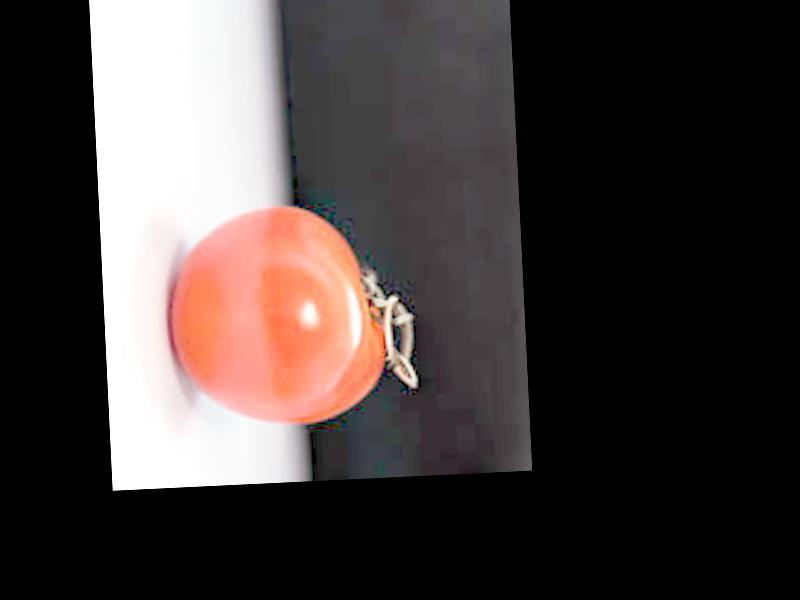Tomato: (165, 200, 389, 430)
